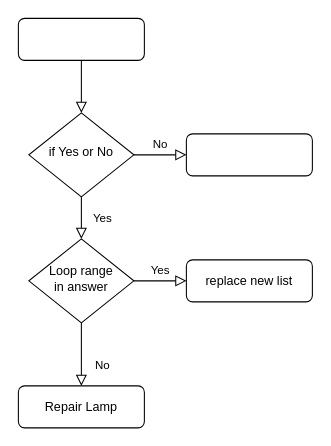
This 331x446 diagram has some shape labels left out. Here are the shapes that lost their labels. From the top down, the centre of each, then its label:
At (80,38): "Input Alphabet".
At (248,154): "Setting_Up += 1".
